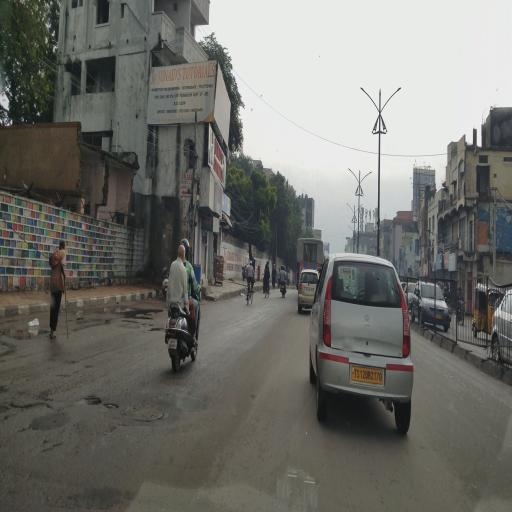street_light_0: (356, 74, 382, 132), (375, 81, 404, 127), (358, 164, 378, 192), (342, 163, 360, 185), (343, 199, 353, 219), (355, 198, 365, 218)
